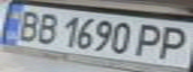0: (109, 19, 136, 55)
1: (54, 14, 81, 48)
6: (75, 16, 96, 51)
9: (90, 18, 115, 53)
B: (9, 7, 45, 43), (30, 11, 63, 45)
P: (130, 20, 172, 58), (151, 24, 193, 61)
